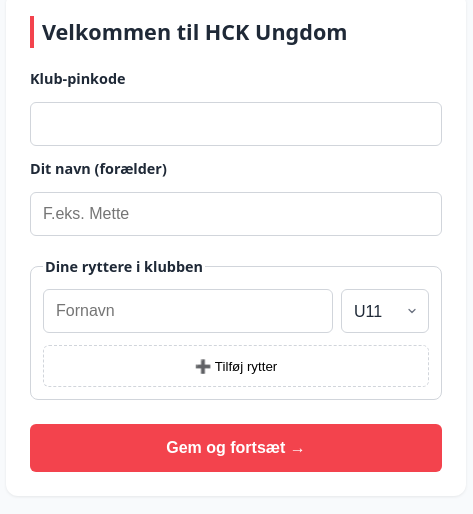
Test case: OnboardingForm (Flow 1) › shows an error and saves nothing given a missing parent name
The width and height of the screenshot is (473, 514).
Type "hck2026" into the password field labelled "Klub-pinkode" at point(236, 124), box [30, 102, 442, 146]
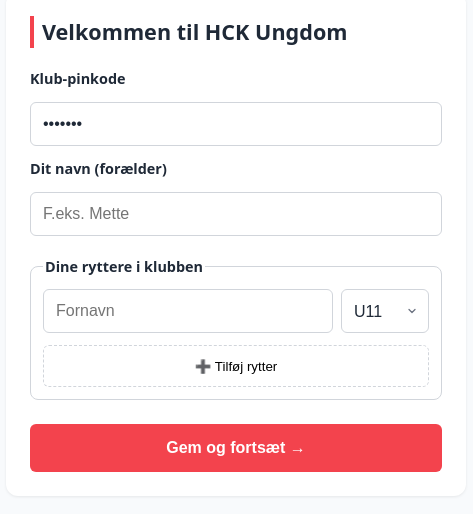
Type " Mette " into the field labelled "Dit navn (forælder)" at point(236, 214), box [30, 192, 442, 236]
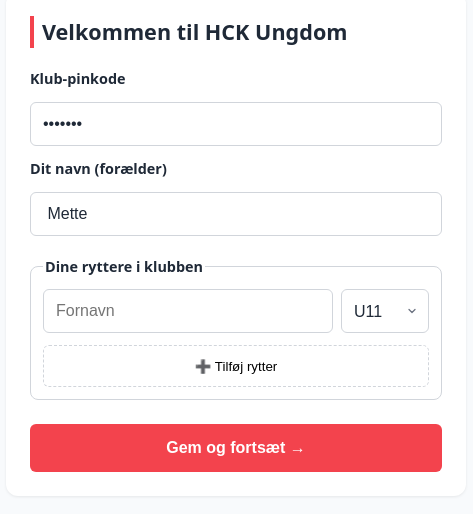
Type "Sofie" into the field named "Rytter 1 navn" at point(188, 311), box [43, 289, 333, 333]
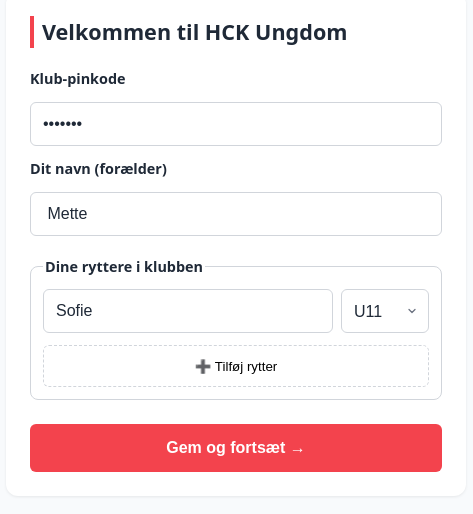
Select "U15" in the dropdown named "Rytter 1 klasse" at point(385, 311), box [341, 289, 429, 333]
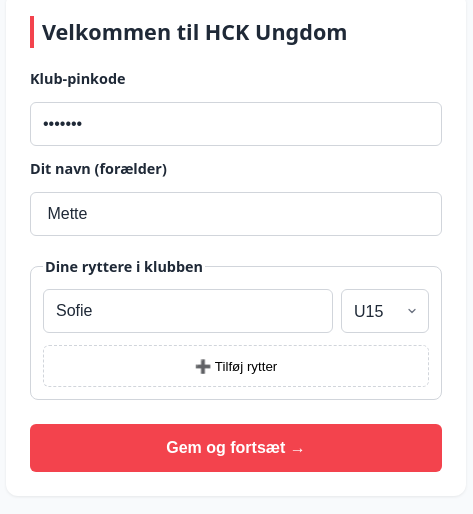
Clear the field labelled "Dit navn (forælder)" at point(236, 214), box [30, 192, 442, 236]
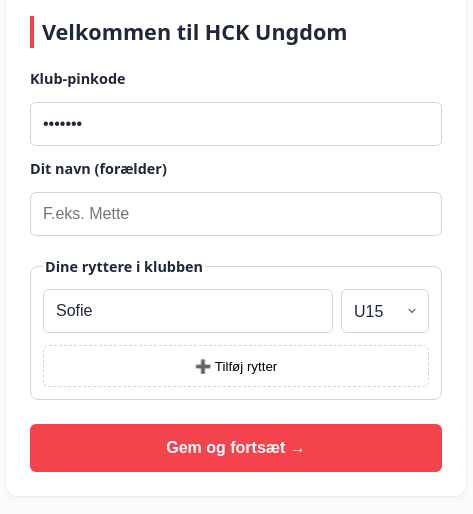
Click the button with test id "save-profile" at point(236, 448), box [30, 424, 442, 472]
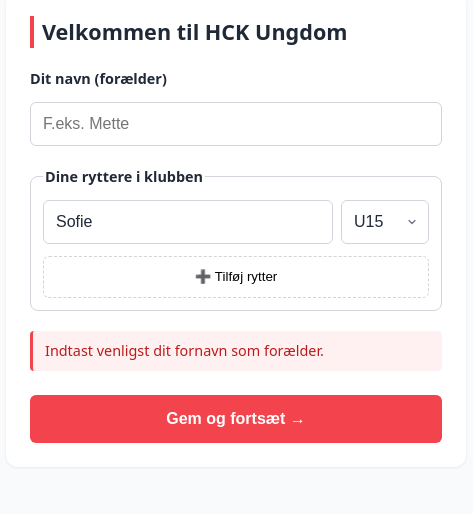
expect the message "Indtast venligst dit fornavn som forælder." is shown: met, box [30, 331, 442, 371]
